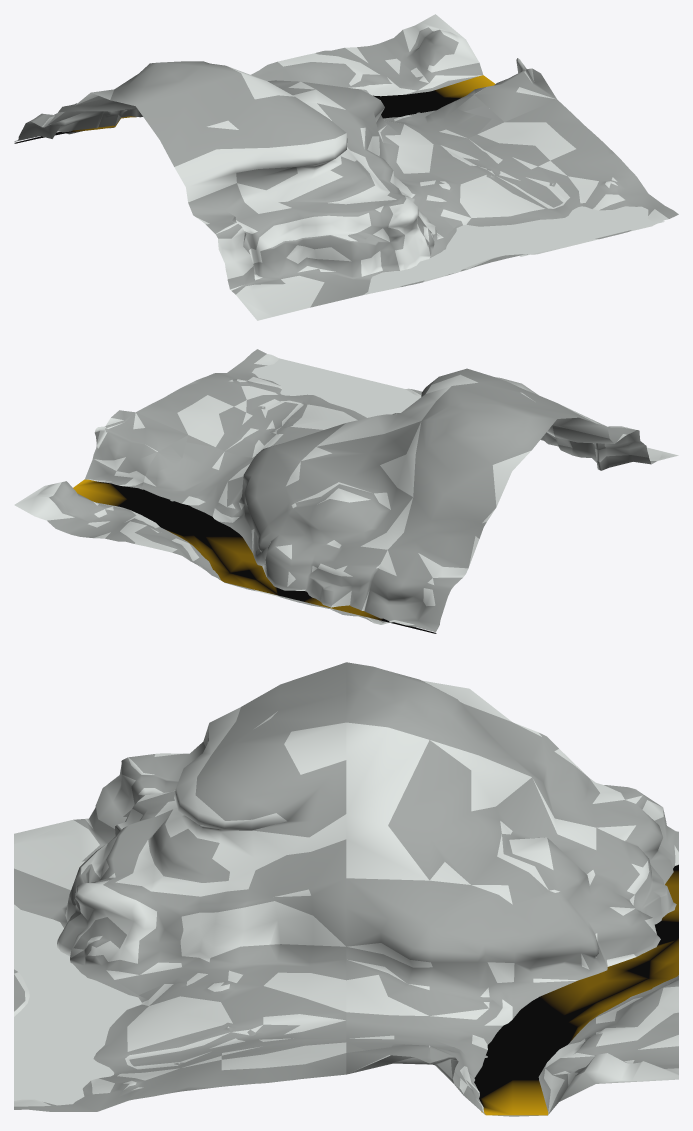
The picture shows the model from 3 angles, top to bottom: view 1: azimuth 30°, elevation 25°; view 2: azimuth 150°, elevation 25°; view 3: azimuth 270°, elevation 25°; orthographic projection. The views are drawn at different scales.
Parts seen in each view (by area): view 1: G:\FFXIV-MapTools\exports\f1f3\bg\ffxiv\fst_f1\fld\f1f3\bgpl (×17); view 2: G:\FFXIV-MapTools\exports\f1f3\bg\ffxiv\fst_f1\fld\f1f3\bgpl (×23); view 3: G:\FFXIV-MapTools\exports\f1f3\bg\ffxiv\fst_f1\fld\f1f3\bgpl (×20).
Boxes of the visible parts, box(x1,y1,x2,y2) form: G:\FFXIV-MapTools\exports\f1f3\bg\ffxiv\fst_f1\fld\f1f3\bgpl (×17): box(16, 14, 678, 320); G:\FFXIV-MapTools\exports\f1f3\bg\ffxiv\fst_f1\fld\f1f3\bgpl (×23): box(14, 349, 678, 633); G:\FFXIV-MapTools\exports\f1f3\bg\ffxiv\fst_f1\fld\f1f3\bgpl (×20): box(14, 662, 678, 1116).
Size of the model in its own units: 128 by 40.47 by 128.
